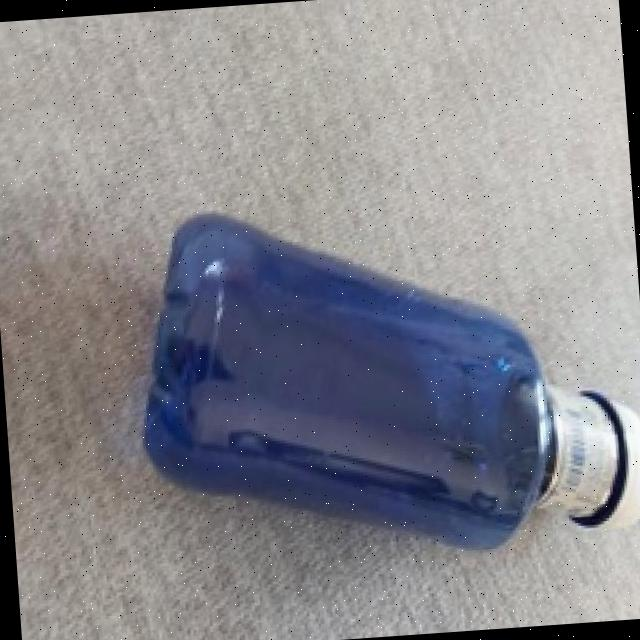bottle: (110, 157, 640, 600)
